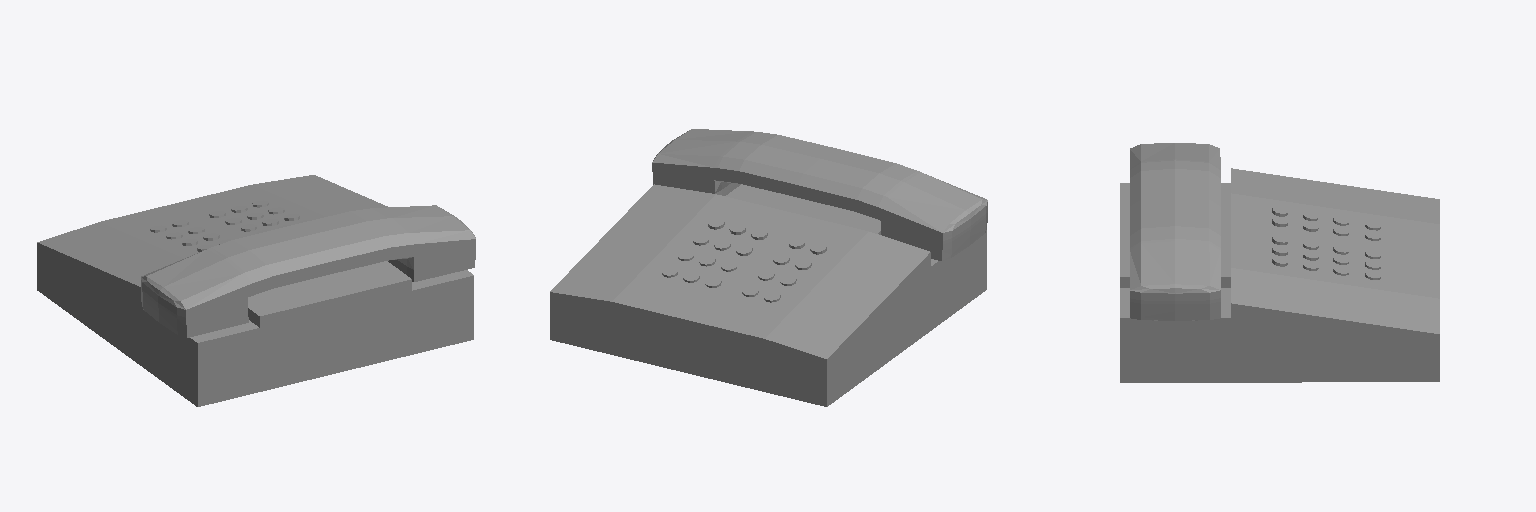
The model's file is origin_phone.obj.
The picture shows the model from 3 angles: view 1: azimuth 30°, elevation 25°; view 2: azimuth 150°, elevation 25°; view 3: azimuth 270°, elevation 25°; orthographic projection.
Parts seen in each view (by area): view 1: Telephone_Cube.021; view 2: Telephone_Cube.021; view 3: Telephone_Cube.021.
Part boxes in pixels (x1,y1,x2,y2): Telephone_Cube.021: (37,175,475,406); Telephone_Cube.021: (550,129,987,406); Telephone_Cube.021: (1120,143,1439,382).
Size of the model in its own units: 1.31 by 0.4926 by 1.21.